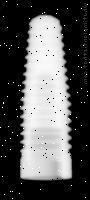Nobel Biocare: (18, 13, 72, 180)
